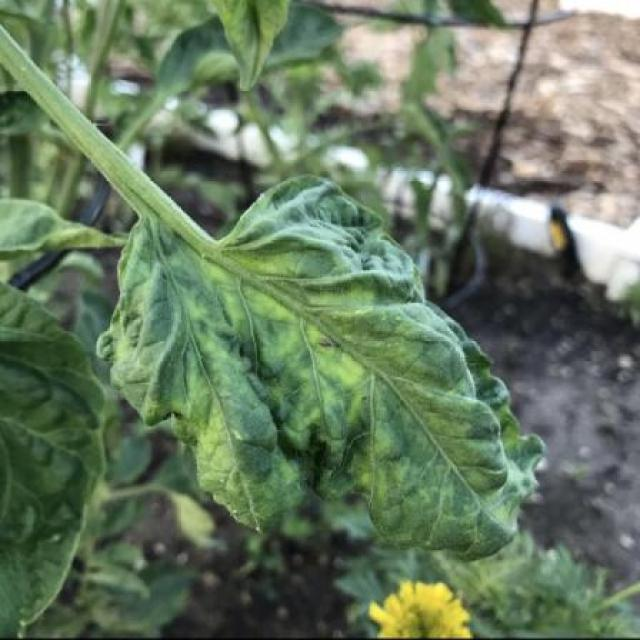Mosaic Virus: (93, 174, 548, 562)
